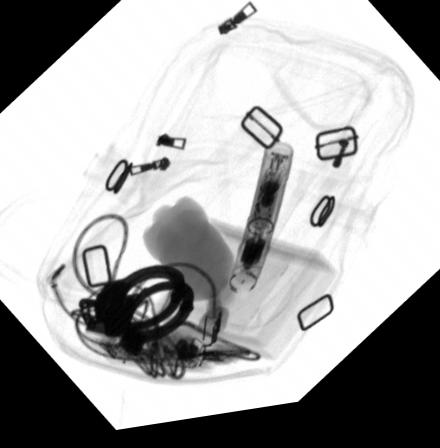Baton: (225, 148, 294, 302)
HandCuffs: (78, 268, 194, 347)
